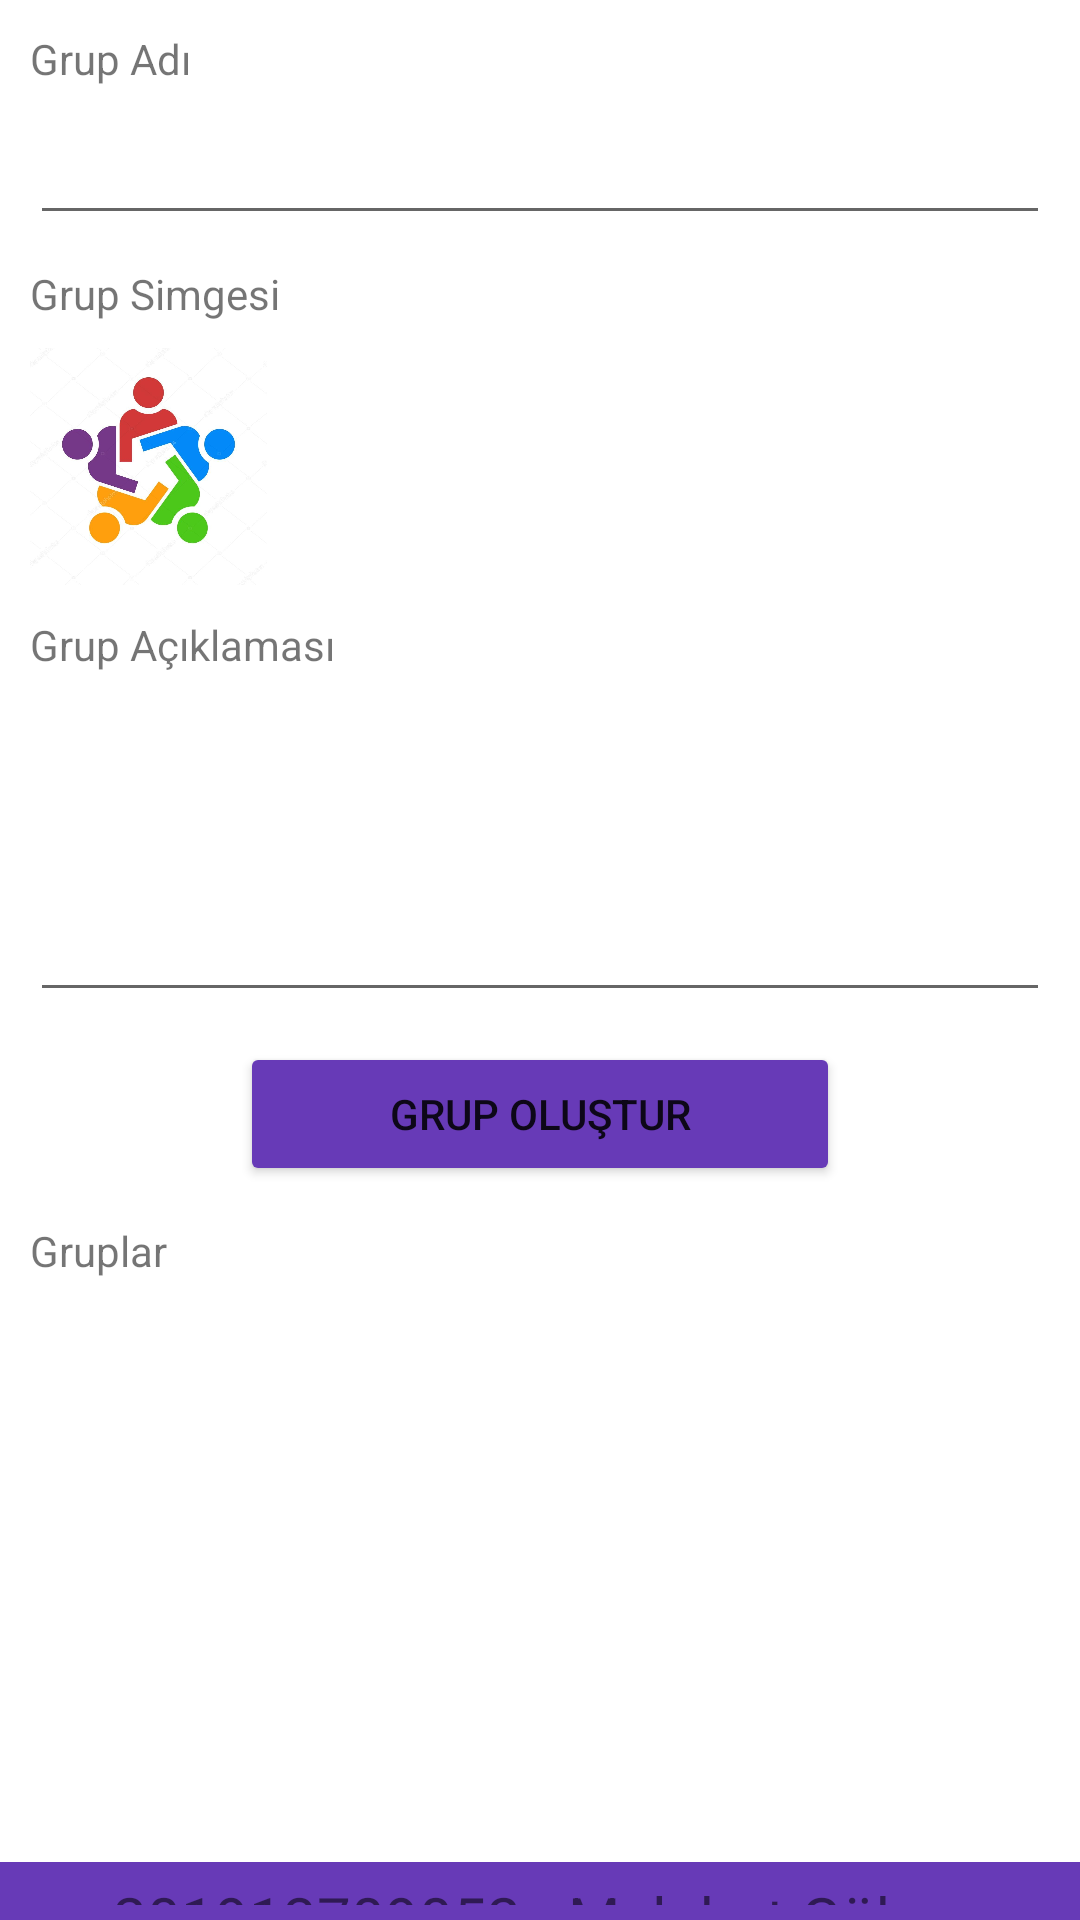

Screen size 1080 × 1920. Icon name, then its center in pixels as (x=x, y=y):
topluluk: (x=148, y=460)
